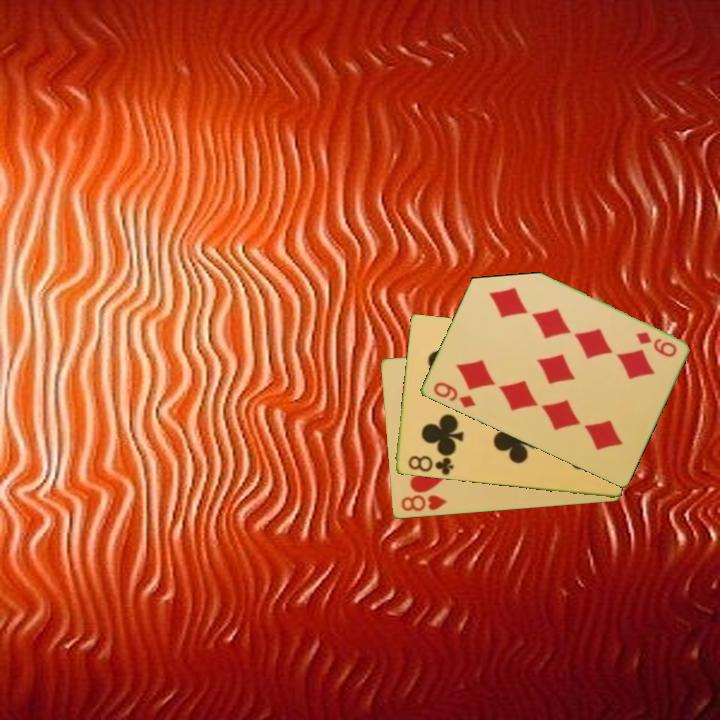8c: (404, 452, 456, 478)
8h: (397, 492, 449, 514)
9d: (429, 378, 478, 411), (632, 328, 679, 360)
